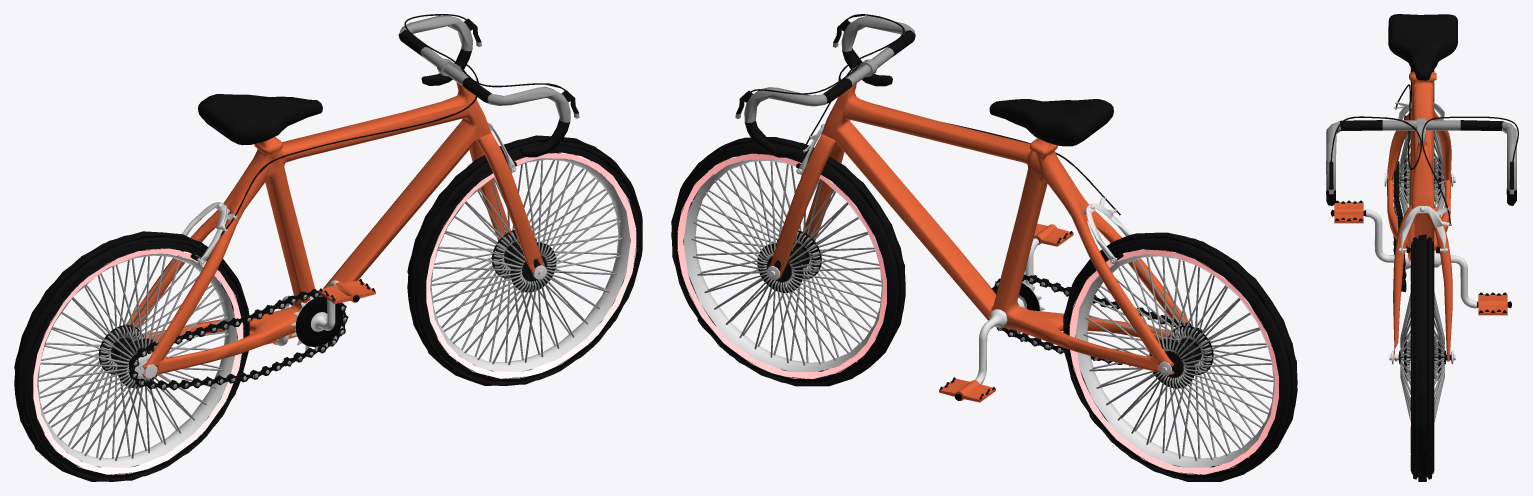
Rendered from bike.glb.
The picture shows the model from 3 angles, left to right: view 1: azimuth 30°, elevation 25°; view 2: azimuth 150°, elevation 25°; view 3: azimuth 270°, elevation 25°; orthographic projection. The views are drawn at different scales.
Parts seen in each view (by area): view 1: Bike, F_Pneu, B_Pneu, F_Raios, B_Raios, Cylinder.003, Cube, Cylinder.002, Cylinder, F_Eixo, B_Eixo, NurbsCurve (+2 smaller); view 2: Bike, B_Pneu, F_Pneu, F_Raios, B_Raios, Cylinder.003, Cube, B_Eixo, Cylinder, F_Eixo, Cylinder.002, Pedal_E (+1 smaller); view 3: Bike, F_Pneu, Cylinder.003, Cube, F_Raios, Cylinder, B_Raios, BreakF, Pedal_E, Pedal_E.001, Cylinder.002, NurbsCurve (+4 smaller).
Part boxes in pixels (left/top/right/bottom): Bike: left=126, top=73, right=544, bottom=377; F_Pneu: left=407, top=135, right=642, bottom=385; B_Pneu: left=14, top=231, right=249, bottom=481; F_Raios: left=430, top=152, right=622, bottom=376; B_Raios: left=37, top=251, right=234, bottom=472; Cylinder.003: left=398, top=15, right=579, bottom=157; Cube: left=198, top=94, right=322, bottom=145; Cylinder.002: left=129, top=289, right=348, bottom=390; Cylinder: left=275, top=280, right=359, bottom=351; F_Eixo: left=492, top=230, right=556, bottom=292; B_Eixo: left=98, top=325, right=157, bottom=388; NurbsCurve: left=220, top=63, right=566, bottom=235; Bike: left=770, top=83, right=1186, bottom=374; B_Pneu: left=1063, top=232, right=1297, bottom=481; F_Pneu: left=671, top=137, right=905, bottom=386; F_Raios: left=688, top=156, right=882, bottom=376; B_Raios: left=1083, top=249, right=1274, bottom=472; Cylinder.003: left=735, top=16, right=915, bottom=157; Cube: left=989, top=99, right=1113, bottom=146; B_Eixo: left=1149, top=325, right=1213, bottom=388; Cylinder: left=954, top=238, right=1044, bottom=400; F_Eixo: left=757, top=230, right=821, bottom=292; Cylinder.002: left=991, top=274, right=1211, bottom=366; Pedal_E: left=939, top=377, right=995, bottom=402; Bike: left=1387, top=71, right=1452, bottom=361; F_Pneu: left=1410, top=234, right=1434, bottom=481; Cylinder.003: left=1326, top=118, right=1516, bottom=205; Cube: left=1388, top=14, right=1457, bottom=80; F_Raios: left=1400, top=292, right=1444, bottom=422; Cylinder: left=1330, top=209, right=1511, bottom=308; B_Raios: left=1400, top=130, right=1444, bottom=215; BreakF: left=1398, top=205, right=1451, bottom=253; Pedal_E: left=1478, top=292, right=1507, bottom=315; Pedal_E.001: left=1334, top=200, right=1363, bottom=223; Cylinder.002: left=1393, top=161, right=1406, bottom=292; NurbsCurve: left=1330, top=84, right=1421, bottom=169.
Size of the model in its own units: 4.69 by 2.5 by 1.36.
